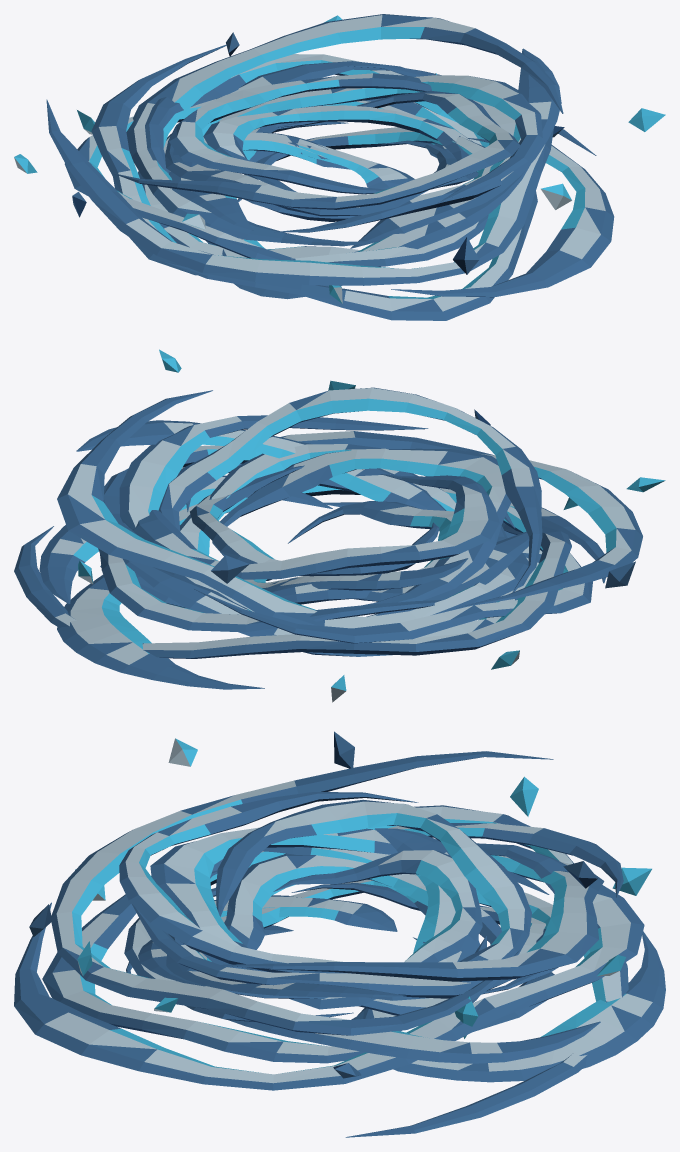
The model's file is Vortex_Slam.glb.
The picture shows the model from 3 angles, top to bottom: view 1: azimuth 30°, elevation 25°; view 2: azimuth 150°, elevation 25°; view 3: azimuth 270°, elevation 25°; orthographic projection. The views are drawn at different scales.
Visible parts, largest first — view 1: VORTEX_IMPACT, Inward_Stream_12, Inward_Stream_11, Inward_Stream_06, Inward_Stream_13, Inward_Stream_14, Inward_Stream_07, Inward_Stream_02, Inward_Stream_08, Inward_Stream_10, Inward_Stream_04, Inward_Stream_03 (+3 smaller); view 2: VORTEX_IMPACT, Inward_Stream_12, Inward_Stream_13, Inward_Stream_01, Inward_Stream_09, Inward_Stream_14, Inward_Stream_06, Inward_Stream_11, Inward_Stream_08, Inward_Stream_07, Inward_Stream_10, Inward_Stream_05 (+3 smaller); view 3: VORTEX_IMPACT, Inward_Stream_06, Inward_Stream_11, Inward_Stream_14, Inward_Stream_02, Inward_Stream_13, Inward_Stream_12, Inward_Stream_09, Inward_Stream_10, Inward_Stream_08, Inward_Stream_01, Inward_Stream_05 (+3 smaller).
Part boxes in pixels (x1,y1,x2,y2): VORTEX_IMPACT: (14,15,665,303); Inward_Stream_12: (126,14,563,246); Inward_Stream_11: (46,64,553,285); Inward_Stream_06: (145,54,614,297); Inward_Stream_13: (114,90,520,209); Inward_Stream_14: (169,73,431,194); Inward_Stream_07: (91,45,489,275); Inward_Stream_02: (165,98,537,320); Inward_Stream_08: (218,75,542,202); Inward_Stream_10: (203,105,472,191); Inward_Stream_04: (237,127,501,232); Inward_Stream_03: (138,61,403,258); VORTEX_IMPACT: (39,349,665,702); Inward_Stream_12: (57,390,529,628); Inward_Stream_13: (158,387,542,592); Inward_Stream_01: (14,522,571,658); Inward_Stream_09: (212,448,511,605); Inward_Stream_14: (132,474,499,579); Inward_Stream_06: (98,431,493,632); Inward_Stream_11: (103,445,642,608); Inward_Stream_08: (119,415,445,616); Inward_Stream_07: (186,463,592,643); Inward_Stream_10: (190,465,439,576); Inward_Stream_05: (271,501,453,604); VORTEX_IMPACT: (29,731,665,1082); Inward_Stream_06: (14,843,644,1090); Inward_Stream_11: (51,751,553,1035); Inward_Stream_14: (216,799,531,1000); Inward_Stream_02: (42,876,554,1063); Inward_Stream_13: (119,792,486,973); Inward_Stream_12: (211,853,604,981); Inward_Stream_09: (150,827,549,969); Inward_Stream_10: (244,850,482,1009); Inward_Stream_08: (131,883,545,998); Inward_Stream_01: (126,805,628,1137); Inward_Stream_05: (224,855,501,949).
Size of the model in its own units: 8.93 by 1.91 by 8.24.
